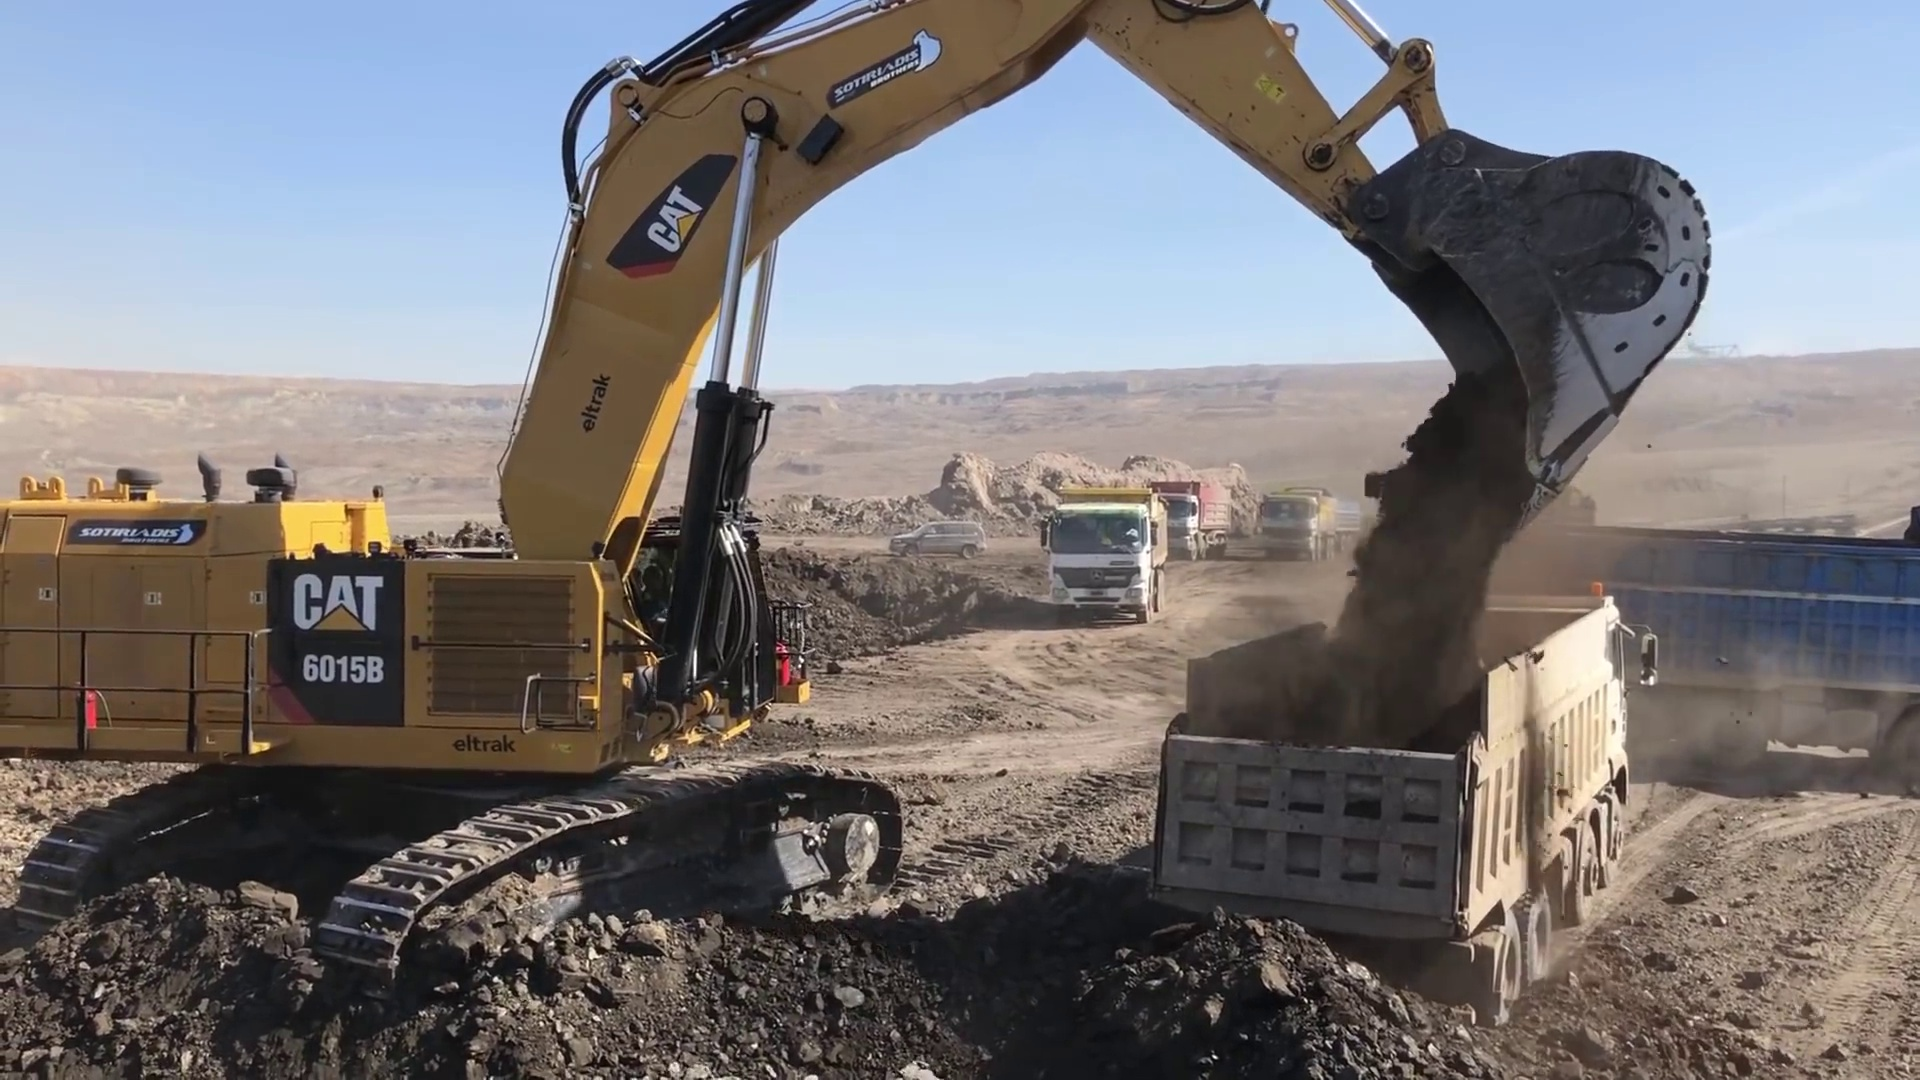car: (887, 516, 989, 560)
excavator: (1, 8, 1720, 1021)
truck: (1150, 600, 1664, 1021), (1460, 506, 1920, 787), (1036, 491, 1159, 625), (1257, 487, 1367, 560), (1150, 480, 1237, 560)
